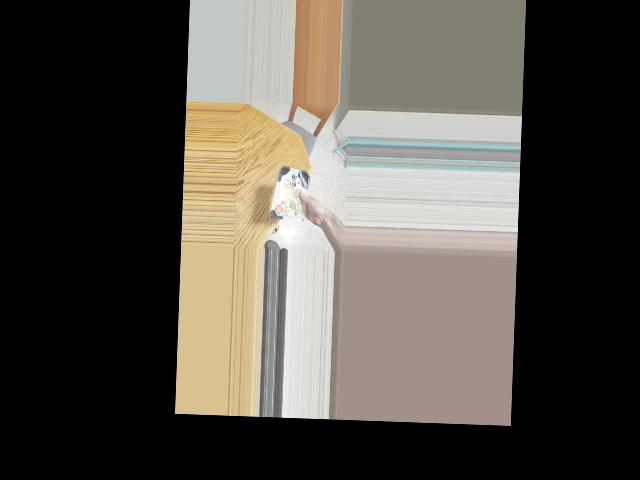cheese: (272, 164, 310, 214)
